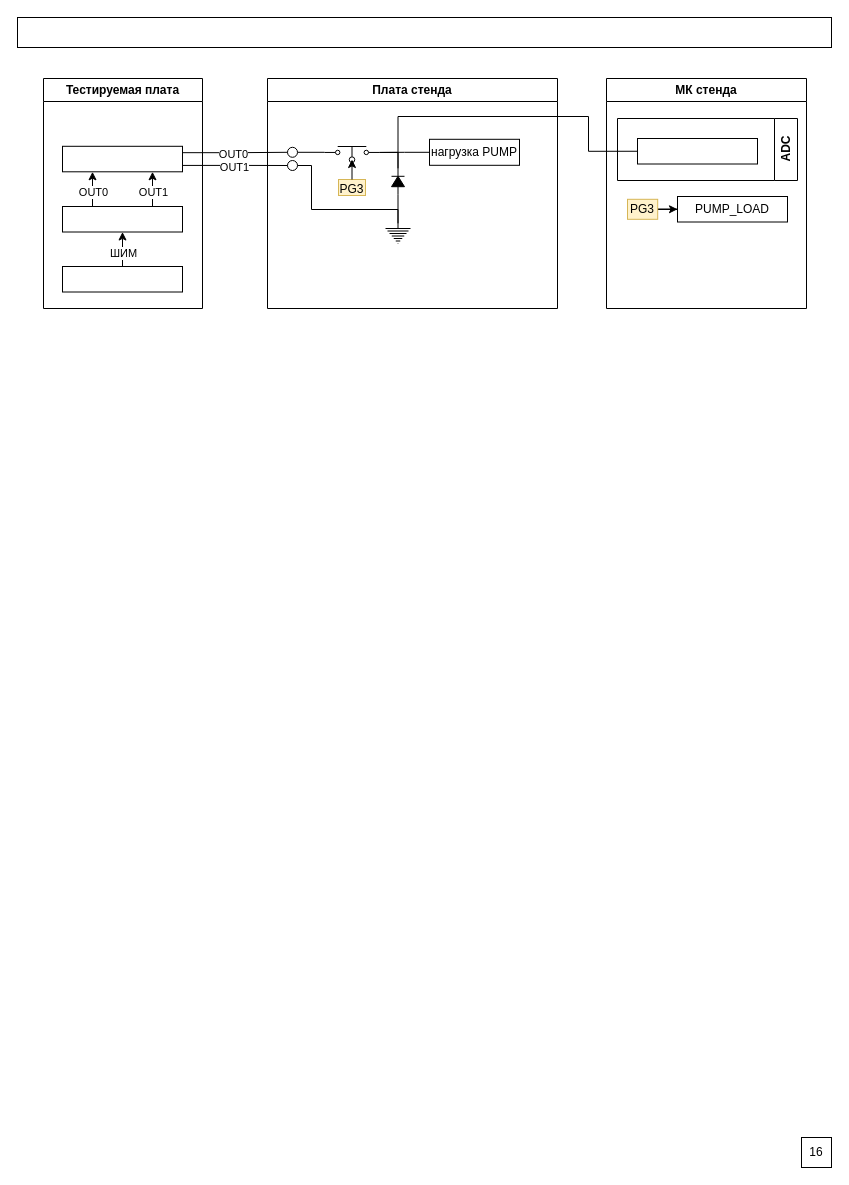
This 849x1185 diagram has some shape labels left out. The shapes that lost their labels are listed below. From the top down, each one's centre as x and y in pixels, then its label:
[424,32]: Блок тестирования PUMP
[122,158]: Разъем PUMP
[697,151]: PUMP_OUT_ADC1
[122,219]: Драйвер DRV8251
[122,279]: МК NIBP
